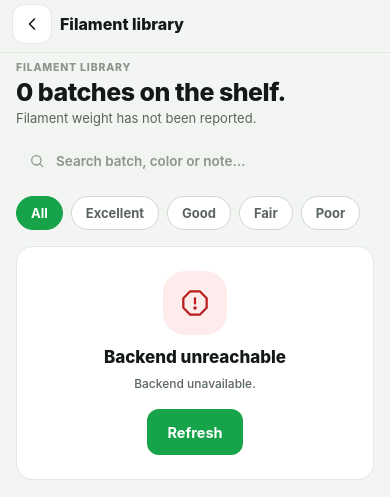
FilamentPage retry › re-requests production data when Refresh is tapped after a failure
The width and height of the screenshot is (390, 497).
Expected: the text "Backend unreachable" is shown, [104,347,286,367]
Click the button "Refresh". click: (195, 432)
box: [148,409,243,455]
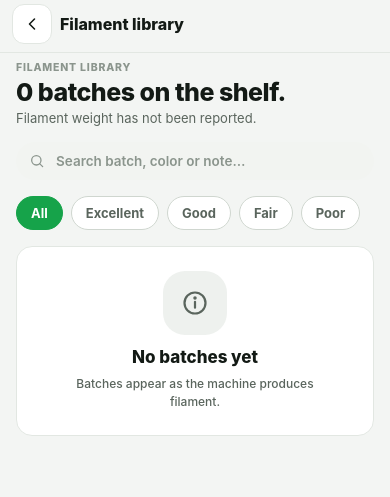
Now the text "No batches yet" is shown, box [132,347,258,367]
Now the text "Backend unreachable" is gone
